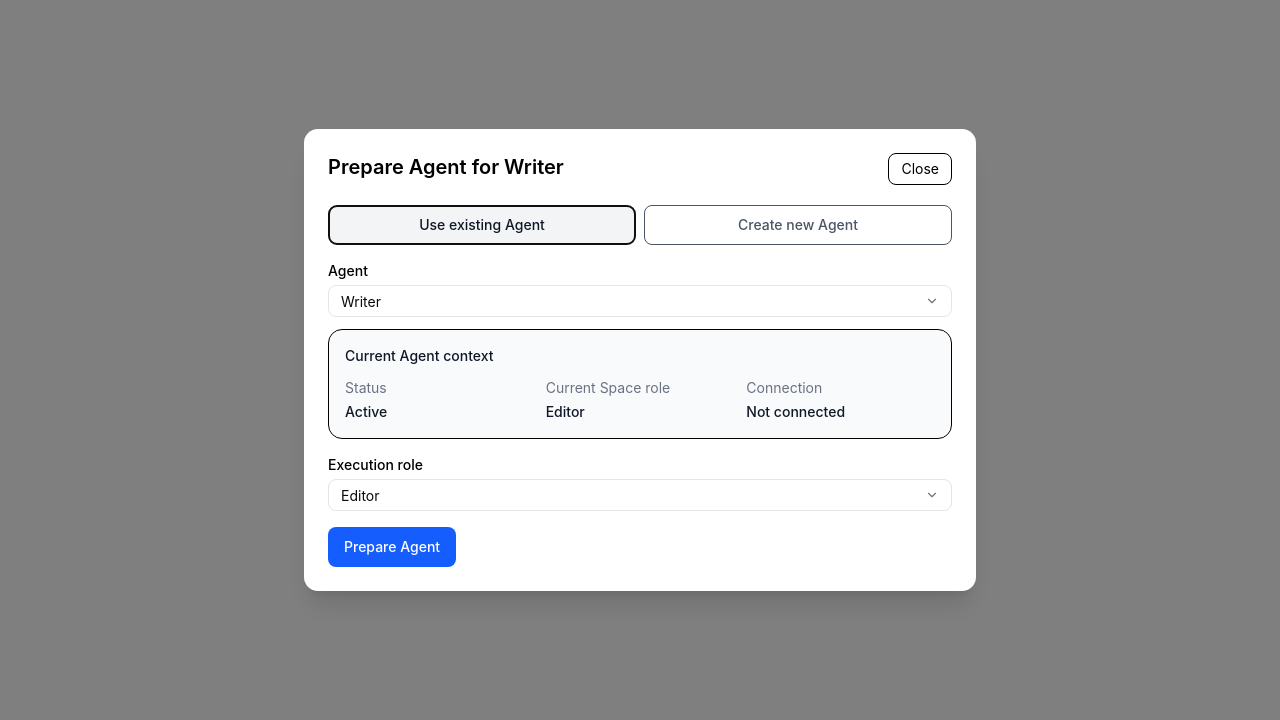
Test: AgentPreparationDialog › retries only instruction issuance after durable preparation succeeded
Check: the dropdown labelled "Agent" is shown, box [328, 285, 952, 317]
Click the button "Prepare Agent" at x=392, y=547, box [328, 527, 456, 567]
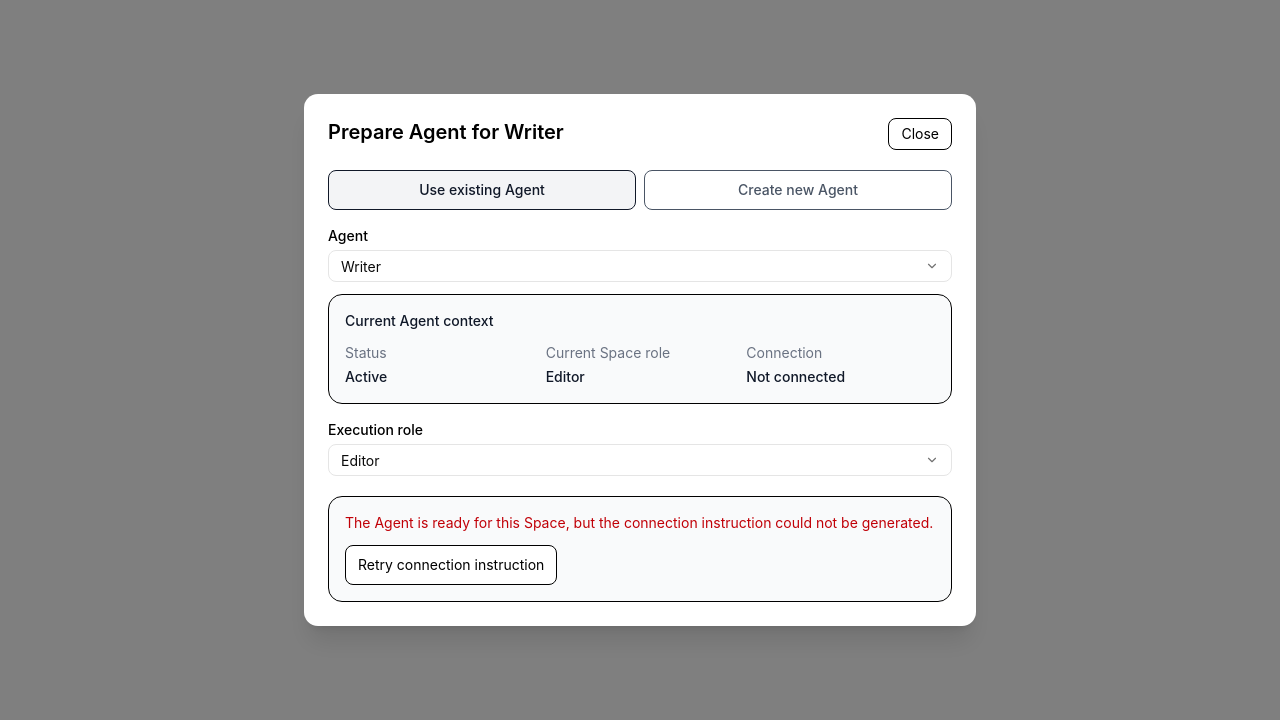
Click the button "Retry connection instruction" at x=451, y=565, box [345, 545, 557, 585]
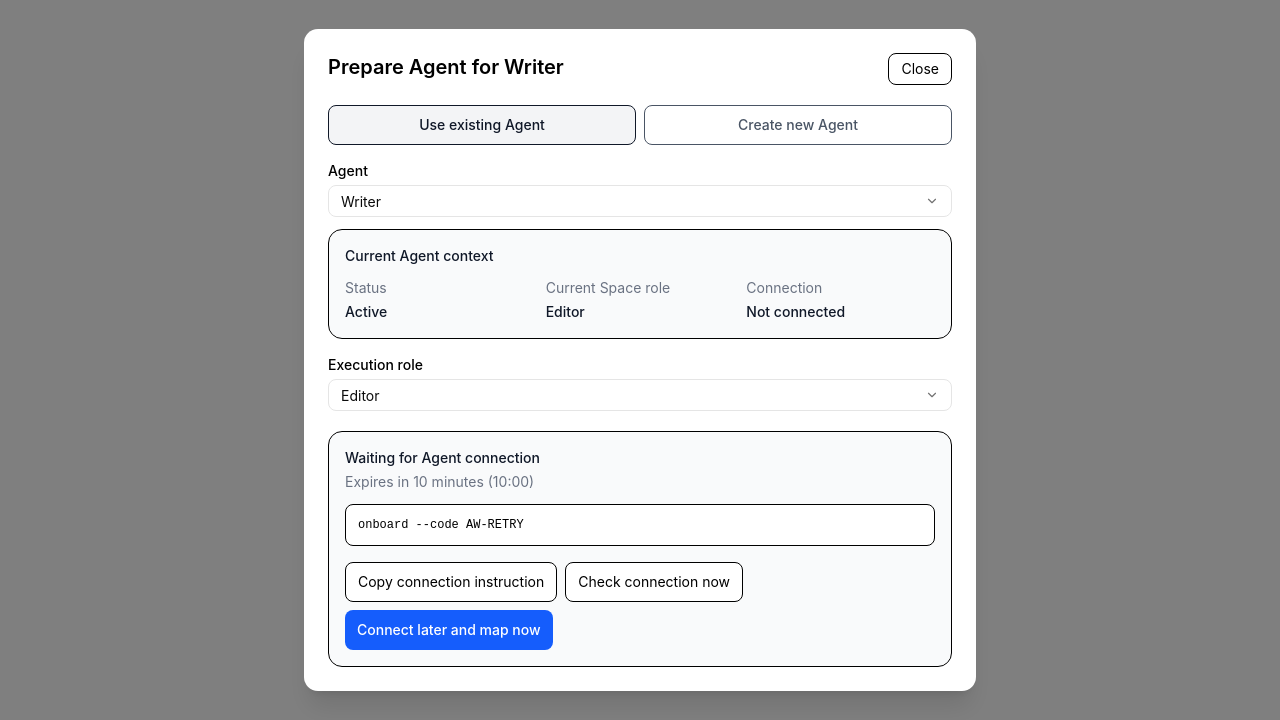
Check: the text "onboard --code AW-RETRY" is shown, box [345, 504, 935, 546]
